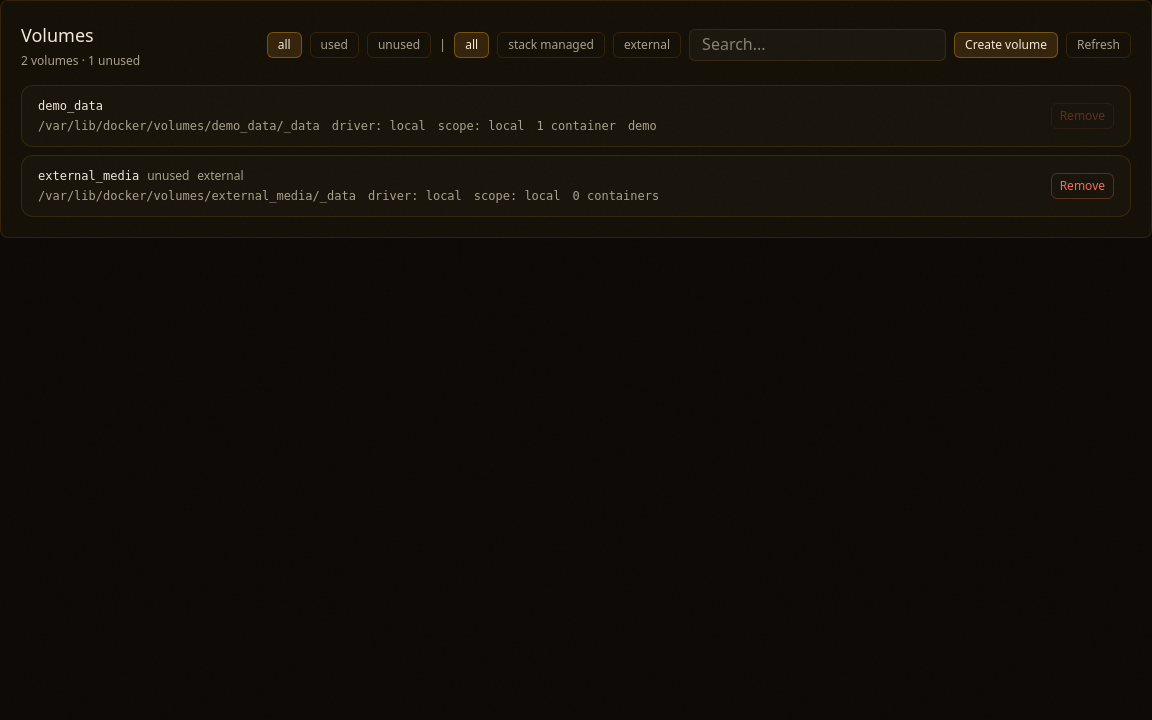
Test: MaintenanceVolumes › keeps a create failure visible in the dialog
Click the button "Create volume". click: (1006, 45)
box: [954,32,1058,58]
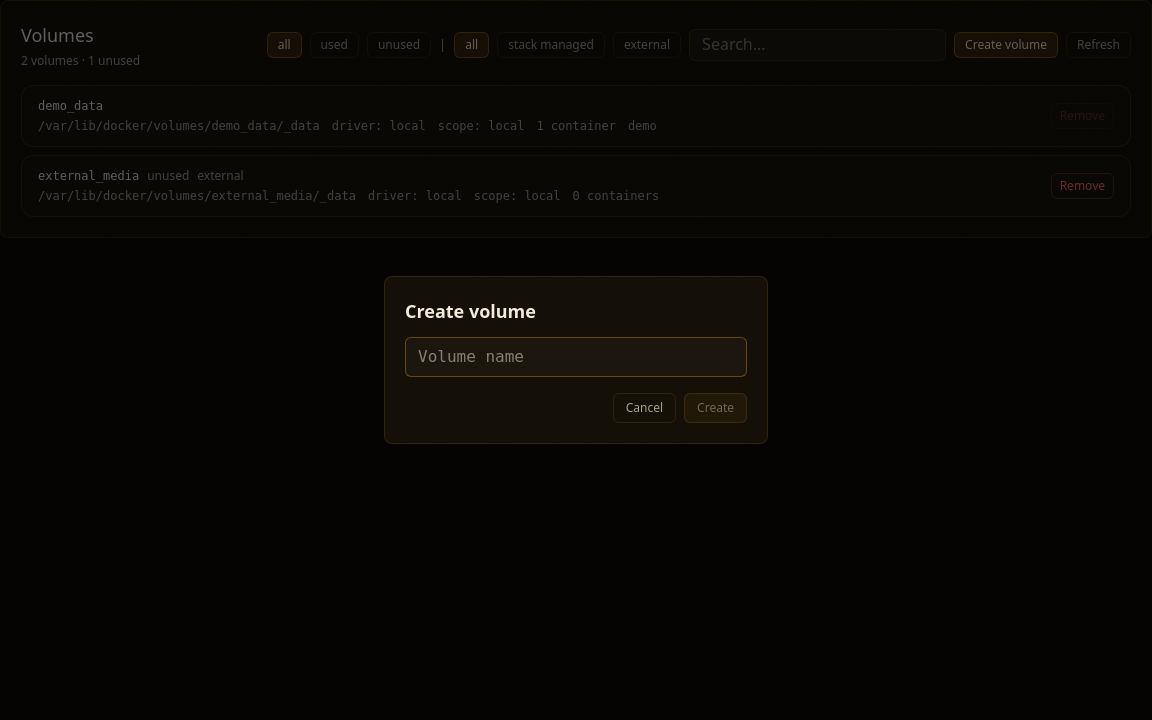
Type "new_volume" into the field with placeholder "Volume name". click: (576, 357)
box: [405,337,747,377]
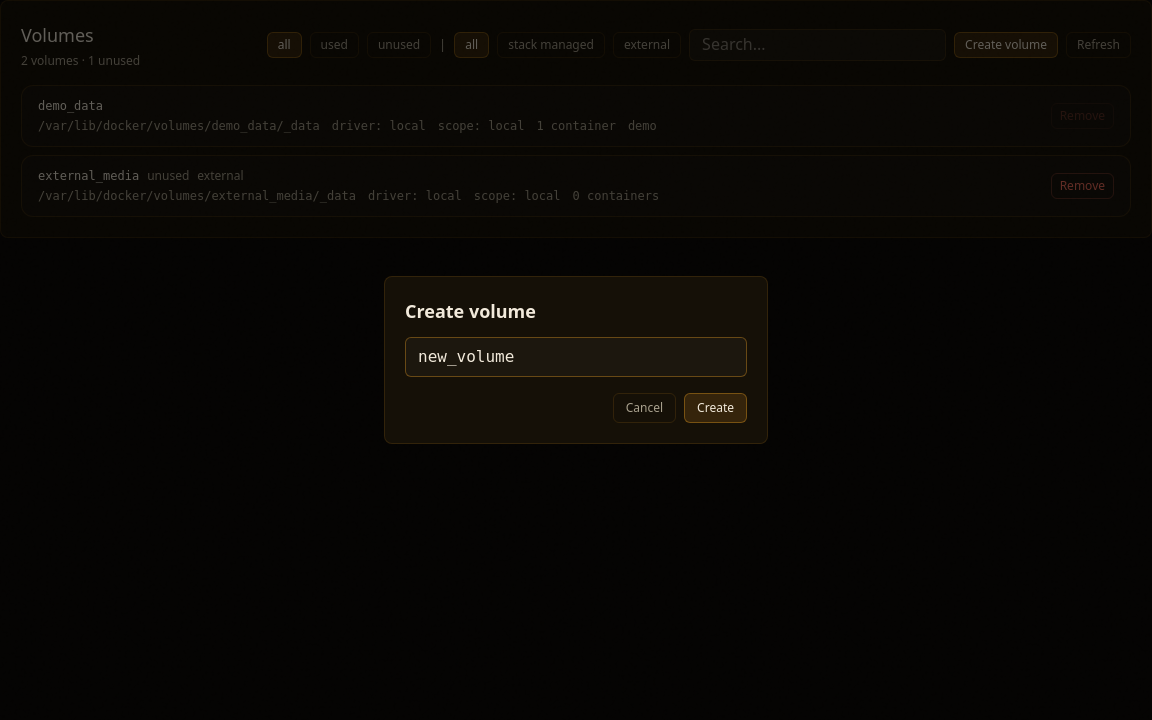
Submit the form with placeholder "Volume name", box [405,325,747,423]
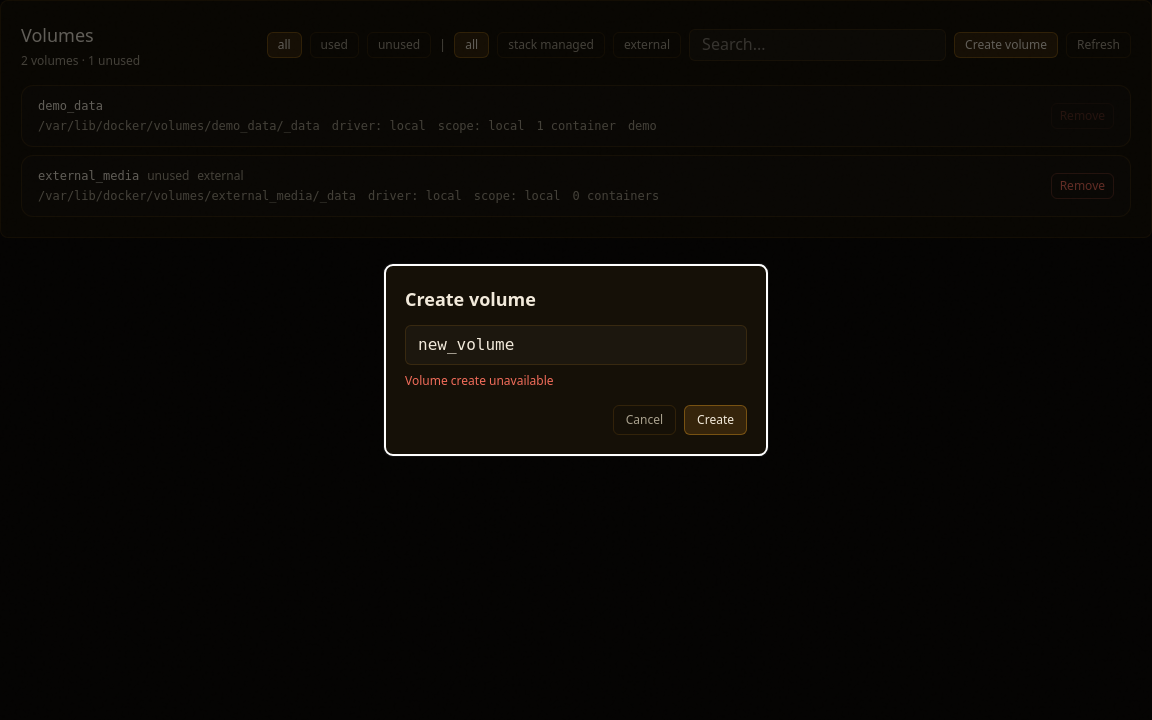
Check: the dialog "Create volume" is shown, box [384,264,768,456]
Check: the message reads "Volume create unavailable", box [405,372,554,389]
